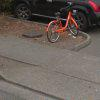Bicycle: (45, 4, 82, 43)
